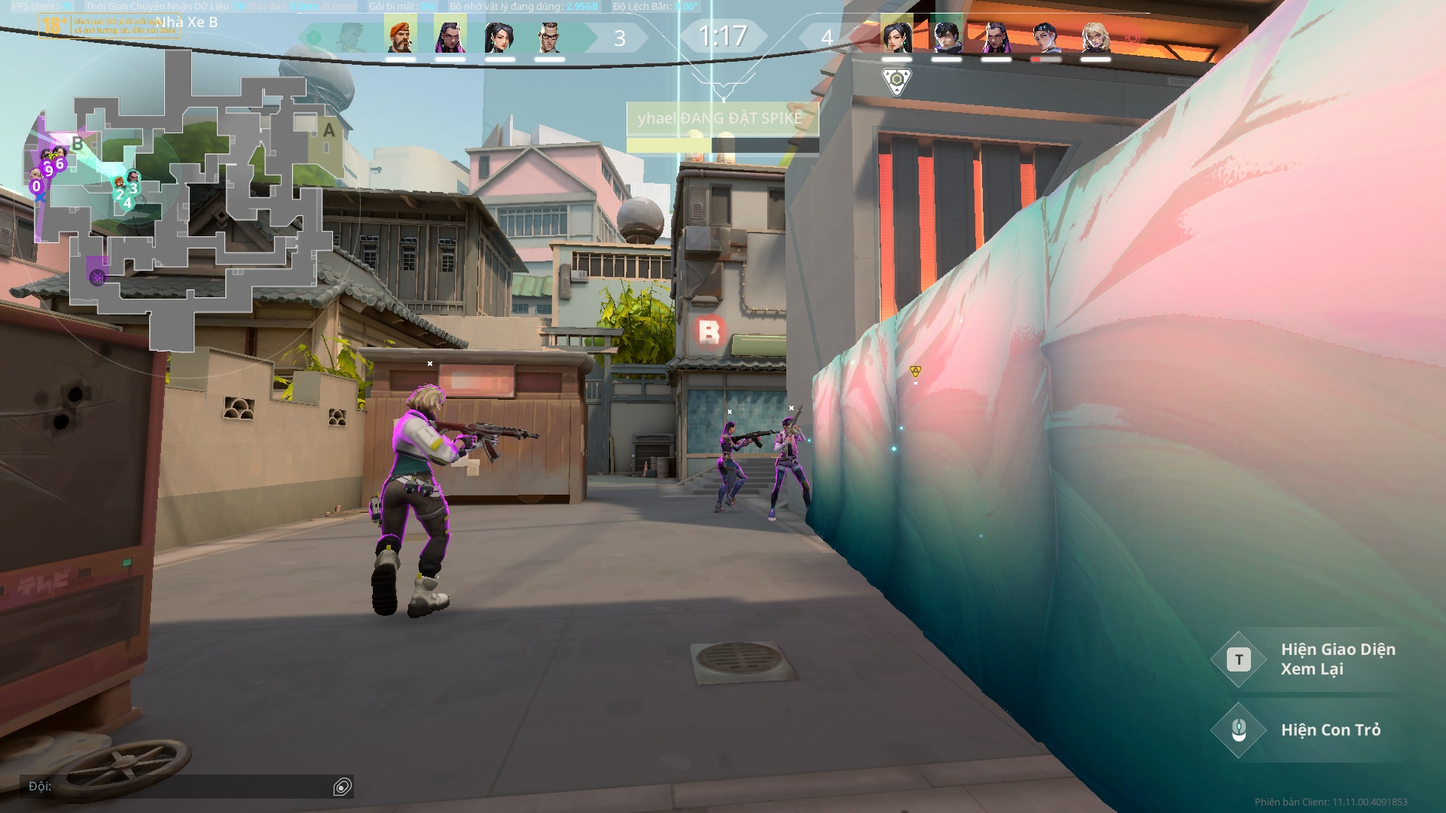body: (392, 413, 438, 479), (777, 428, 799, 458), (718, 433, 736, 458)
head: (407, 379, 447, 417), (781, 417, 795, 430), (724, 420, 734, 433)
